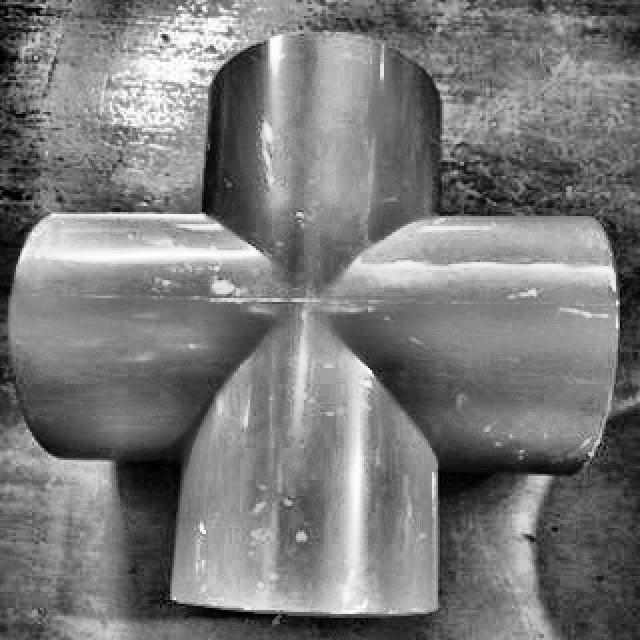EQUALCROSS: (10, 30, 622, 620)
